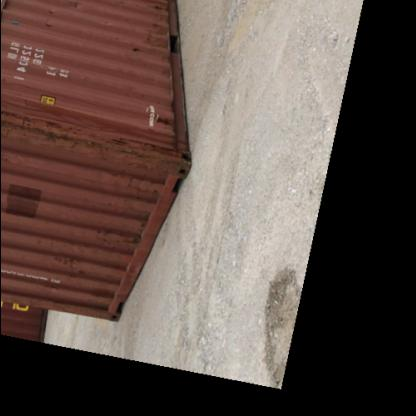Damage: (5, 106, 173, 176), (91, 219, 146, 254), (41, 244, 86, 284), (141, 2, 162, 40), (34, 6, 58, 32), (112, 42, 145, 58), (66, 0, 80, 15)
